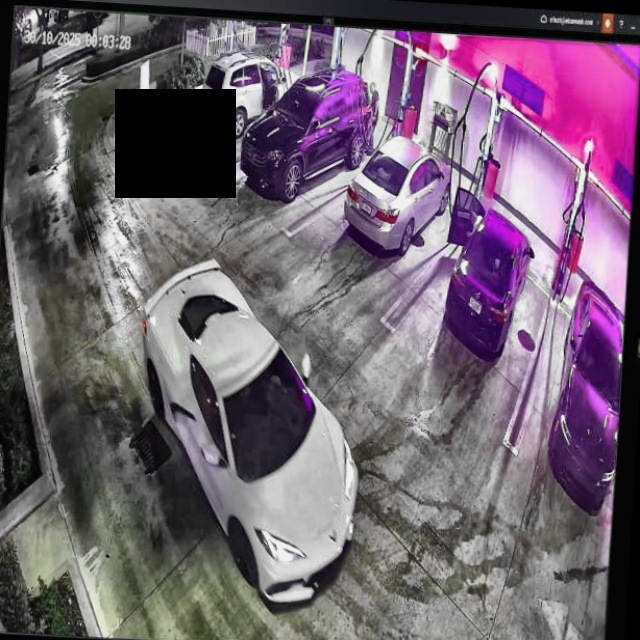Car: (130, 253, 373, 611), (240, 64, 377, 203), (444, 183, 538, 370), (344, 132, 453, 256)
